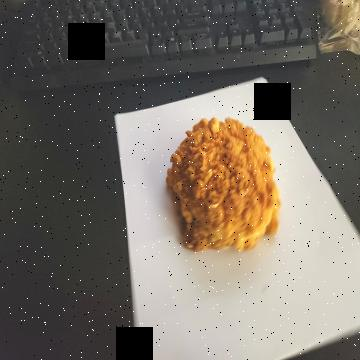soboru_bread: (166, 117, 280, 256)
